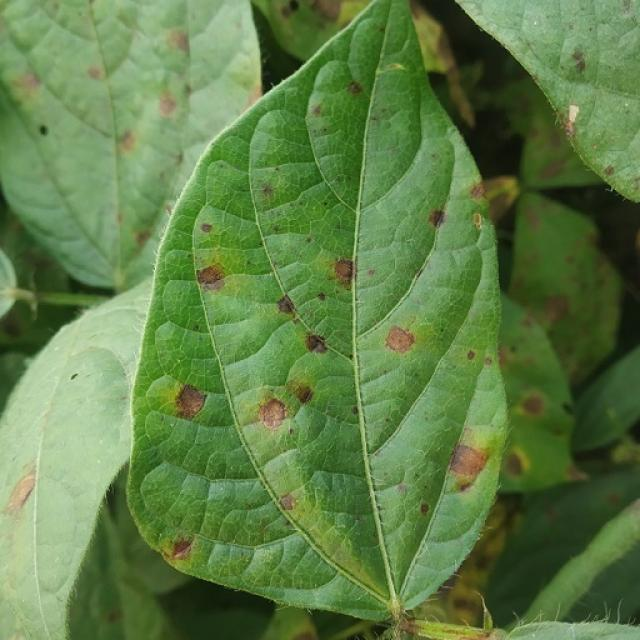Anthracnose: (379, 318, 423, 363), (5, 472, 36, 516), (449, 444, 487, 479), (174, 383, 208, 419), (257, 397, 289, 430), (161, 537, 194, 563), (560, 108, 579, 139), (196, 265, 224, 286), (332, 257, 354, 283), (520, 393, 545, 415), (304, 332, 327, 353), (158, 94, 178, 117), (469, 182, 486, 200), (87, 65, 103, 81), (347, 80, 363, 95), (260, 184, 274, 197), (200, 223, 213, 233), (604, 165, 615, 176)
Blackgram: (129, 0, 506, 619)
